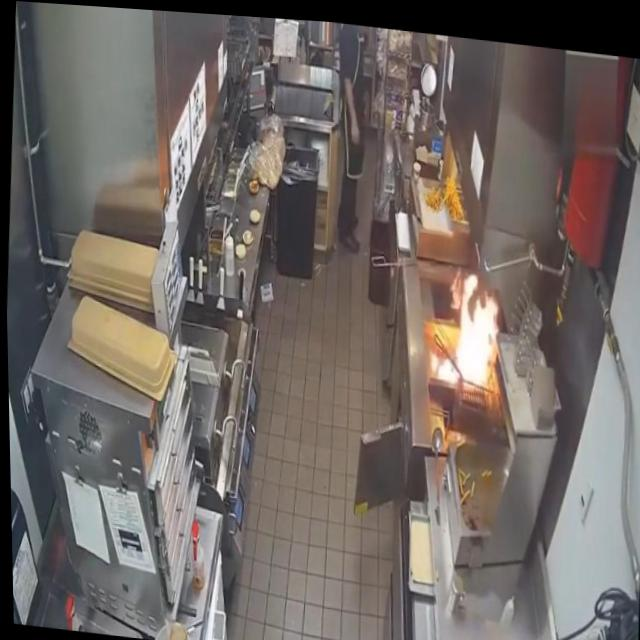fire: (429, 256, 504, 393)
